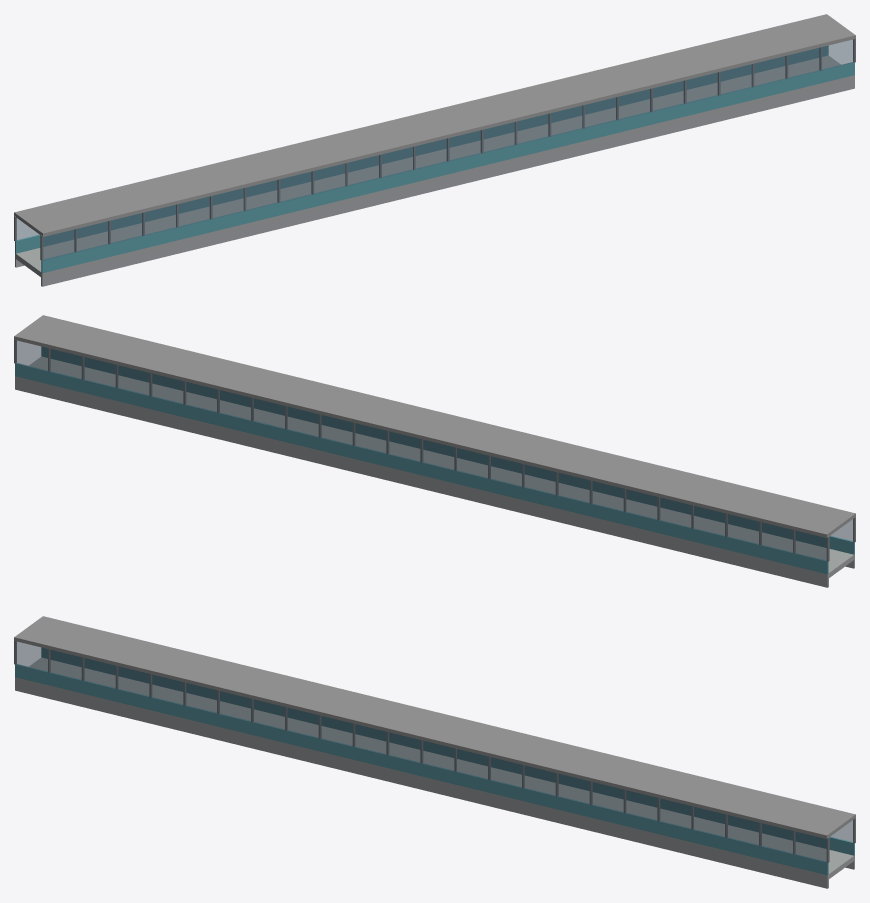
Rendered from hosp-bridge-60.mega-v1.lod0.glb.
3 renders of one model, top to bottom at view 1: azimuth 30°, elevation 25°; view 2: azimuth 150°, elevation 25°; view 3: azimuth 330°, elevation 25°, orthographic.
Visible parts, largest first — view 1: hosp-bridge-60; view 2: hosp-bridge-60; view 3: hosp-bridge-60.
Part boxes in pixels (bbox=[...]): hosp-bridge-60: bbox=[14, 14, 855, 286]; hosp-bridge-60: bbox=[14, 315, 855, 587]; hosp-bridge-60: bbox=[14, 616, 855, 888].
Bounding box in the file's own units: 60.12 × 3.8 × 3.7.
